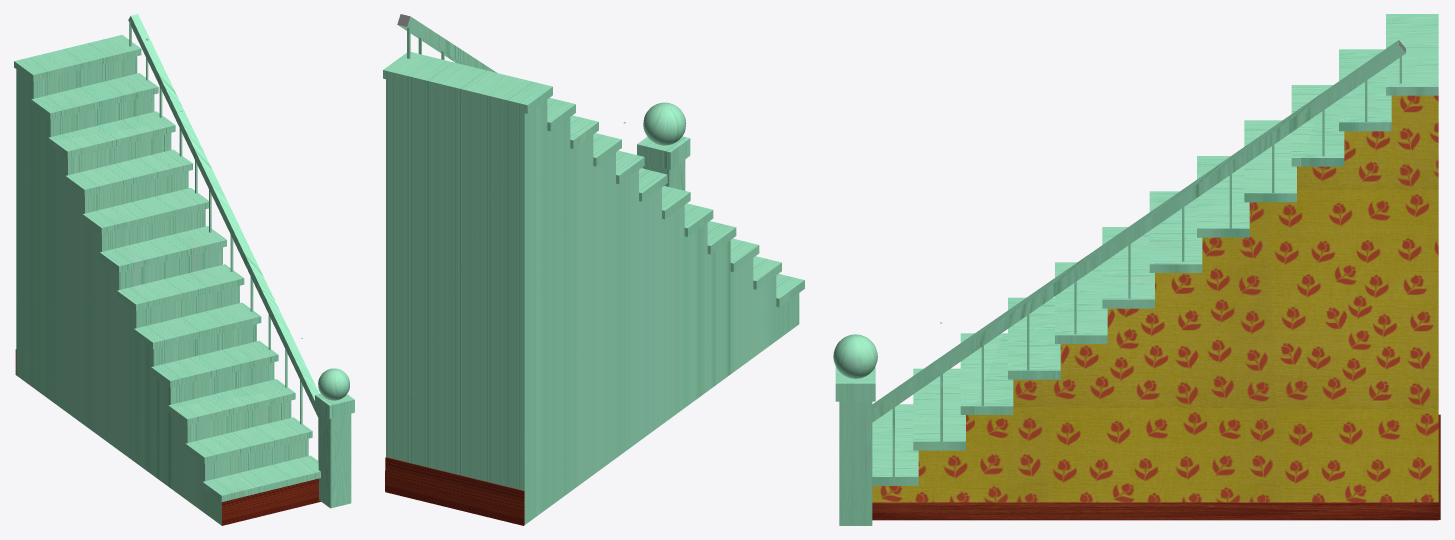
Rendered from Escalera.obj.
3 views of the same model, side by side, from view 1: azimuth 30°, elevation 25°; view 2: azimuth 150°, elevation 25°; view 3: azimuth 270°, elevation 25° (orthographic). The views are drawn at different scales.
Visible parts, largest first — view 1: Escalera:polySurface4; view 2: Escalera:polySurface4; view 3: Escalera:polySurface4.
Boxes of the visible parts, x1,y1,x2,y2 form: Escalera:polySurface4: (14, 14, 354, 525); Escalera:polySurface4: (383, 14, 804, 525); Escalera:polySurface4: (833, 14, 1440, 525).
Size of the model in its own units: 10.85 by 29.24 by 33.71.
Materials: 4 (3 with a texture image).
